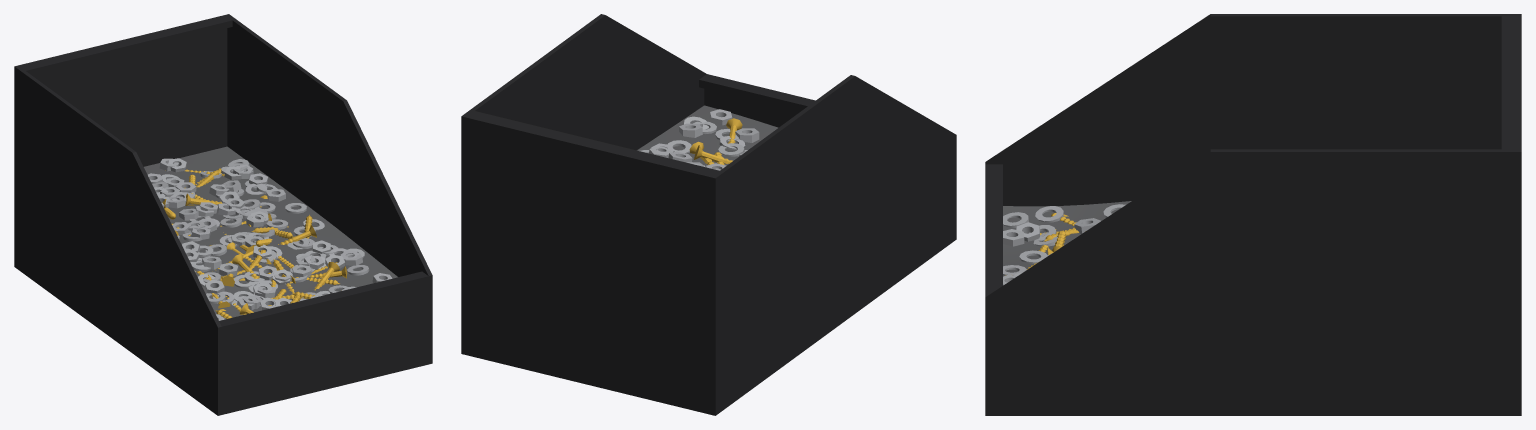
Rendered from bin_ferragens_mistas.dae.
3 renders of one model, left to right at view 1: azimuth 30°, elevation 25°; view 2: azimuth 150°, elevation 25°; view 3: azimuth 270°, elevation 25°, orthographic. The views are drawn at different scales.
Parts seen in each view (by area): view 1: Caixa bin, Monte ferragens mistas; view 2: Caixa bin, Monte ferragens mistas; view 3: Caixa bin, Monte ferragens mistas.
Part boxes in pixels (x1,y1,x2,y2): Caixa bin: (14,14,432,415); Monte ferragens mistas: (144,146,397,319); Caixa bin: (461,14,956,415); Monte ferragens mistas: (637,105,778,166); Caixa bin: (985,14,1521,415); Monte ferragens mistas: (1003,201,1131,276).
Size of the model in its own units: 140 by 230 by 125.
